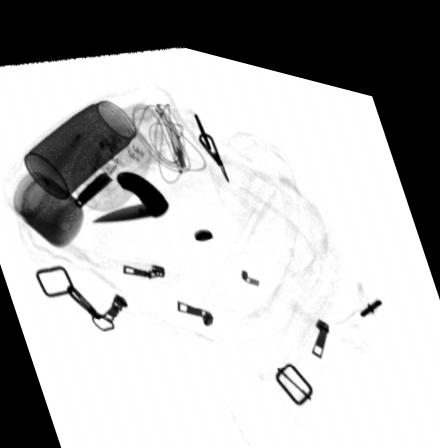Knife: (89, 164, 171, 218)
